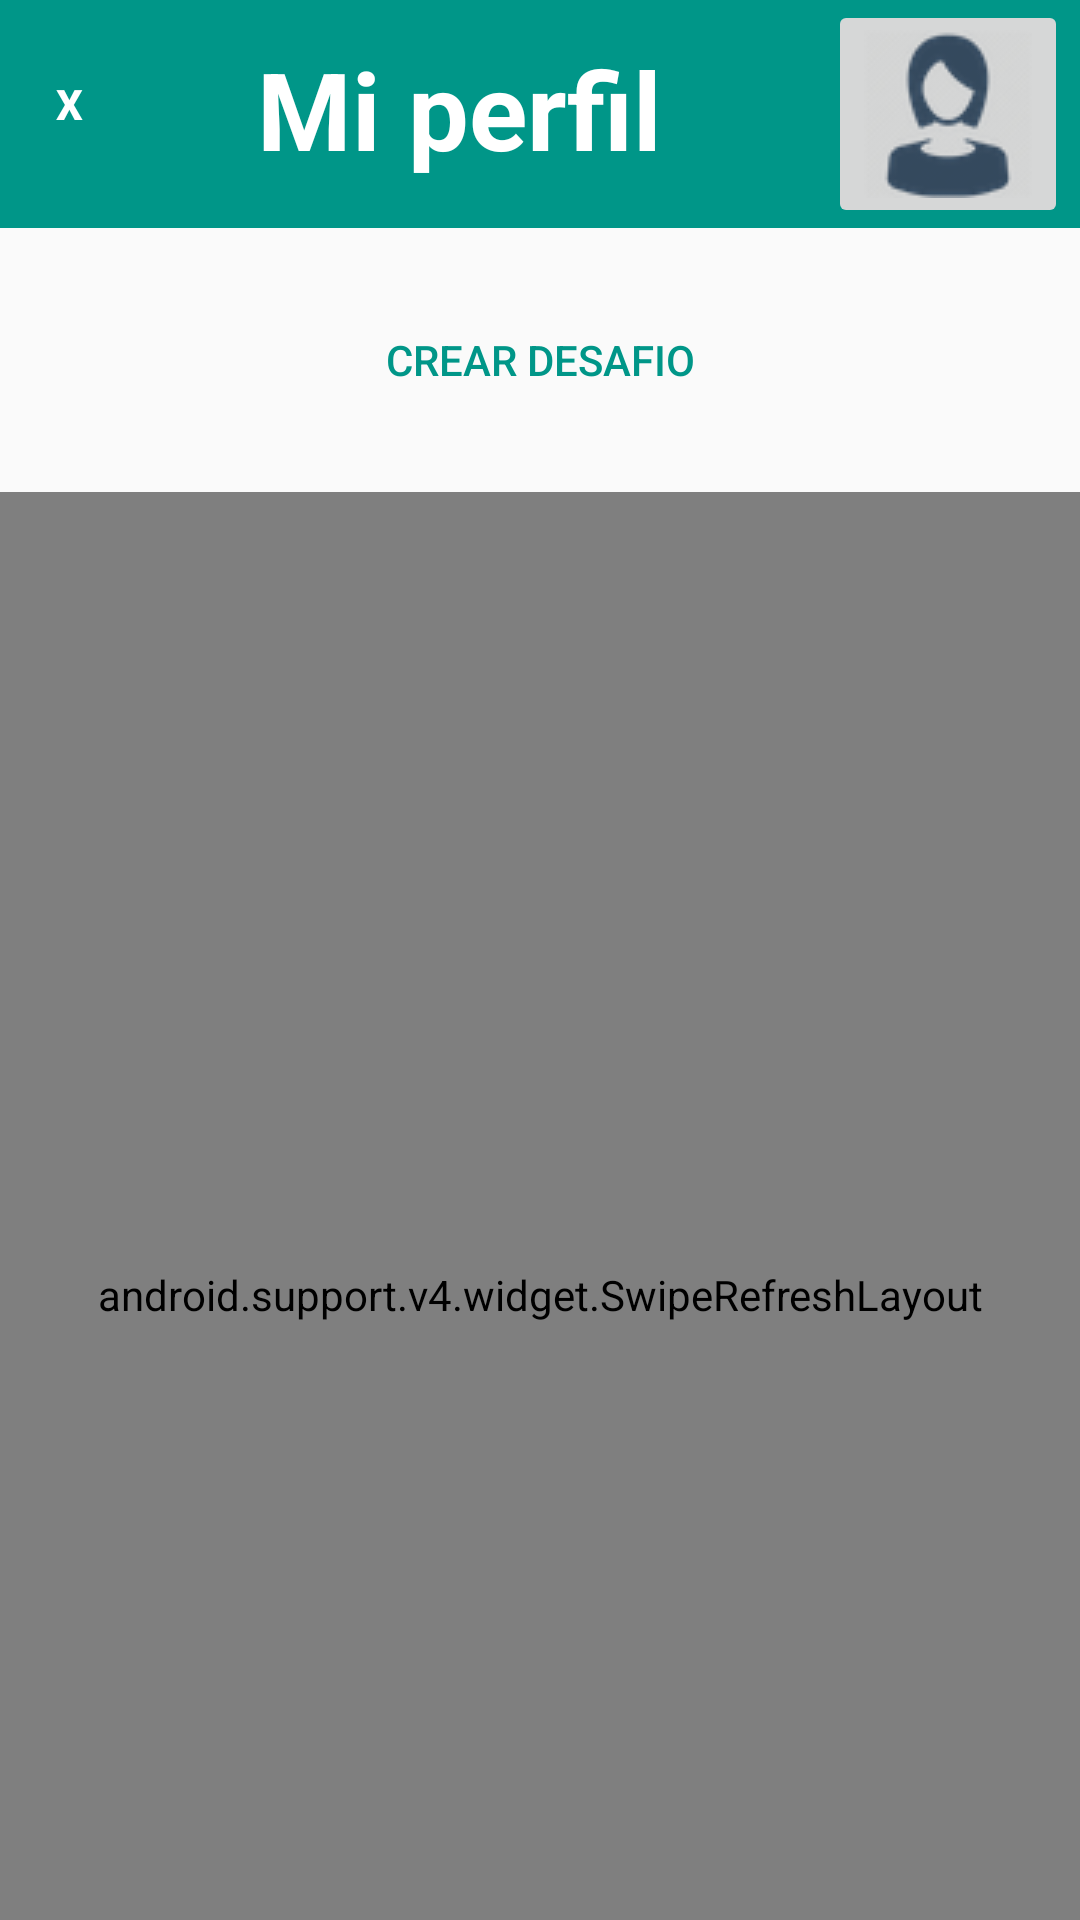

Locate icon controls on the screen. Image size 1080 × 1920, boxes as bbox=(x1, y1, x2, y2).
Foto de perfil: bbox=(840, 18, 1056, 210)
